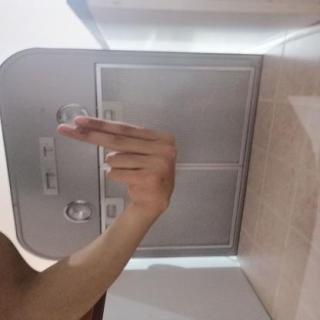AYN: (46, 105, 192, 214)
